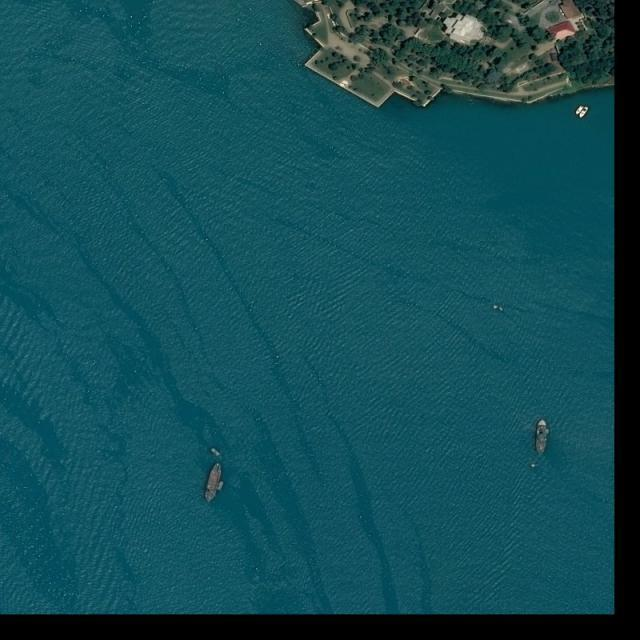ship: (202, 461, 224, 504), (536, 419, 548, 456), (578, 105, 590, 119), (210, 446, 222, 458), (574, 104, 585, 116), (218, 480, 225, 492)
